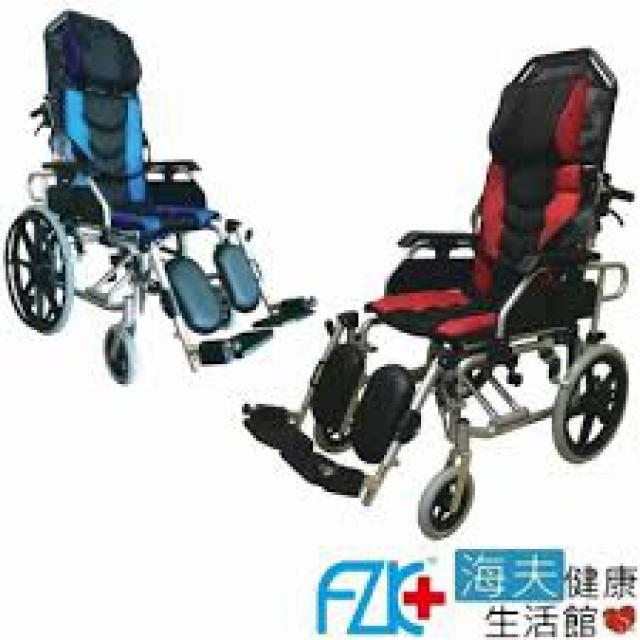wheelchair: (239, 39, 629, 544), (3, 5, 313, 372)
